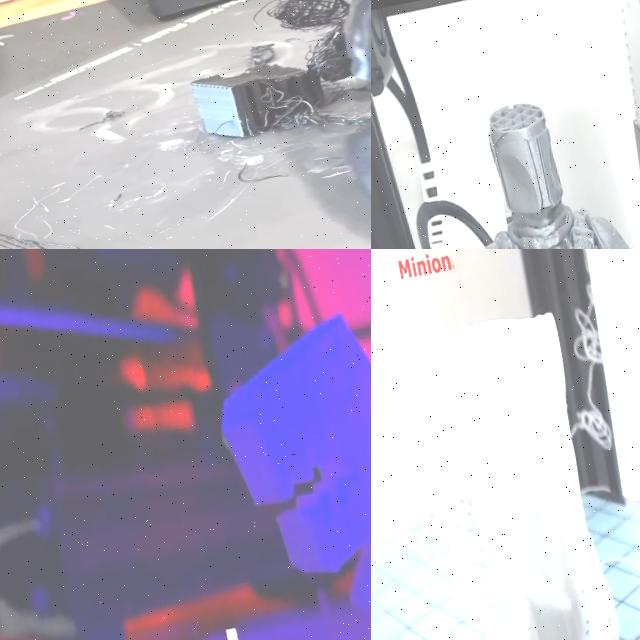spaghetti: (371, 282, 516, 640), (542, 253, 640, 640), (202, 0, 371, 154)
